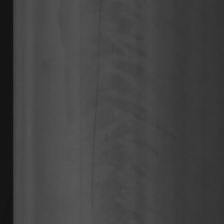inclusion: (107, 13, 150, 215), (88, 5, 102, 217)
